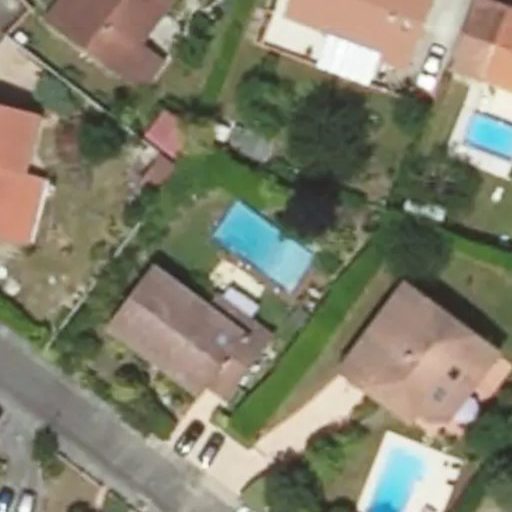pool: (211, 232, 300, 250)
